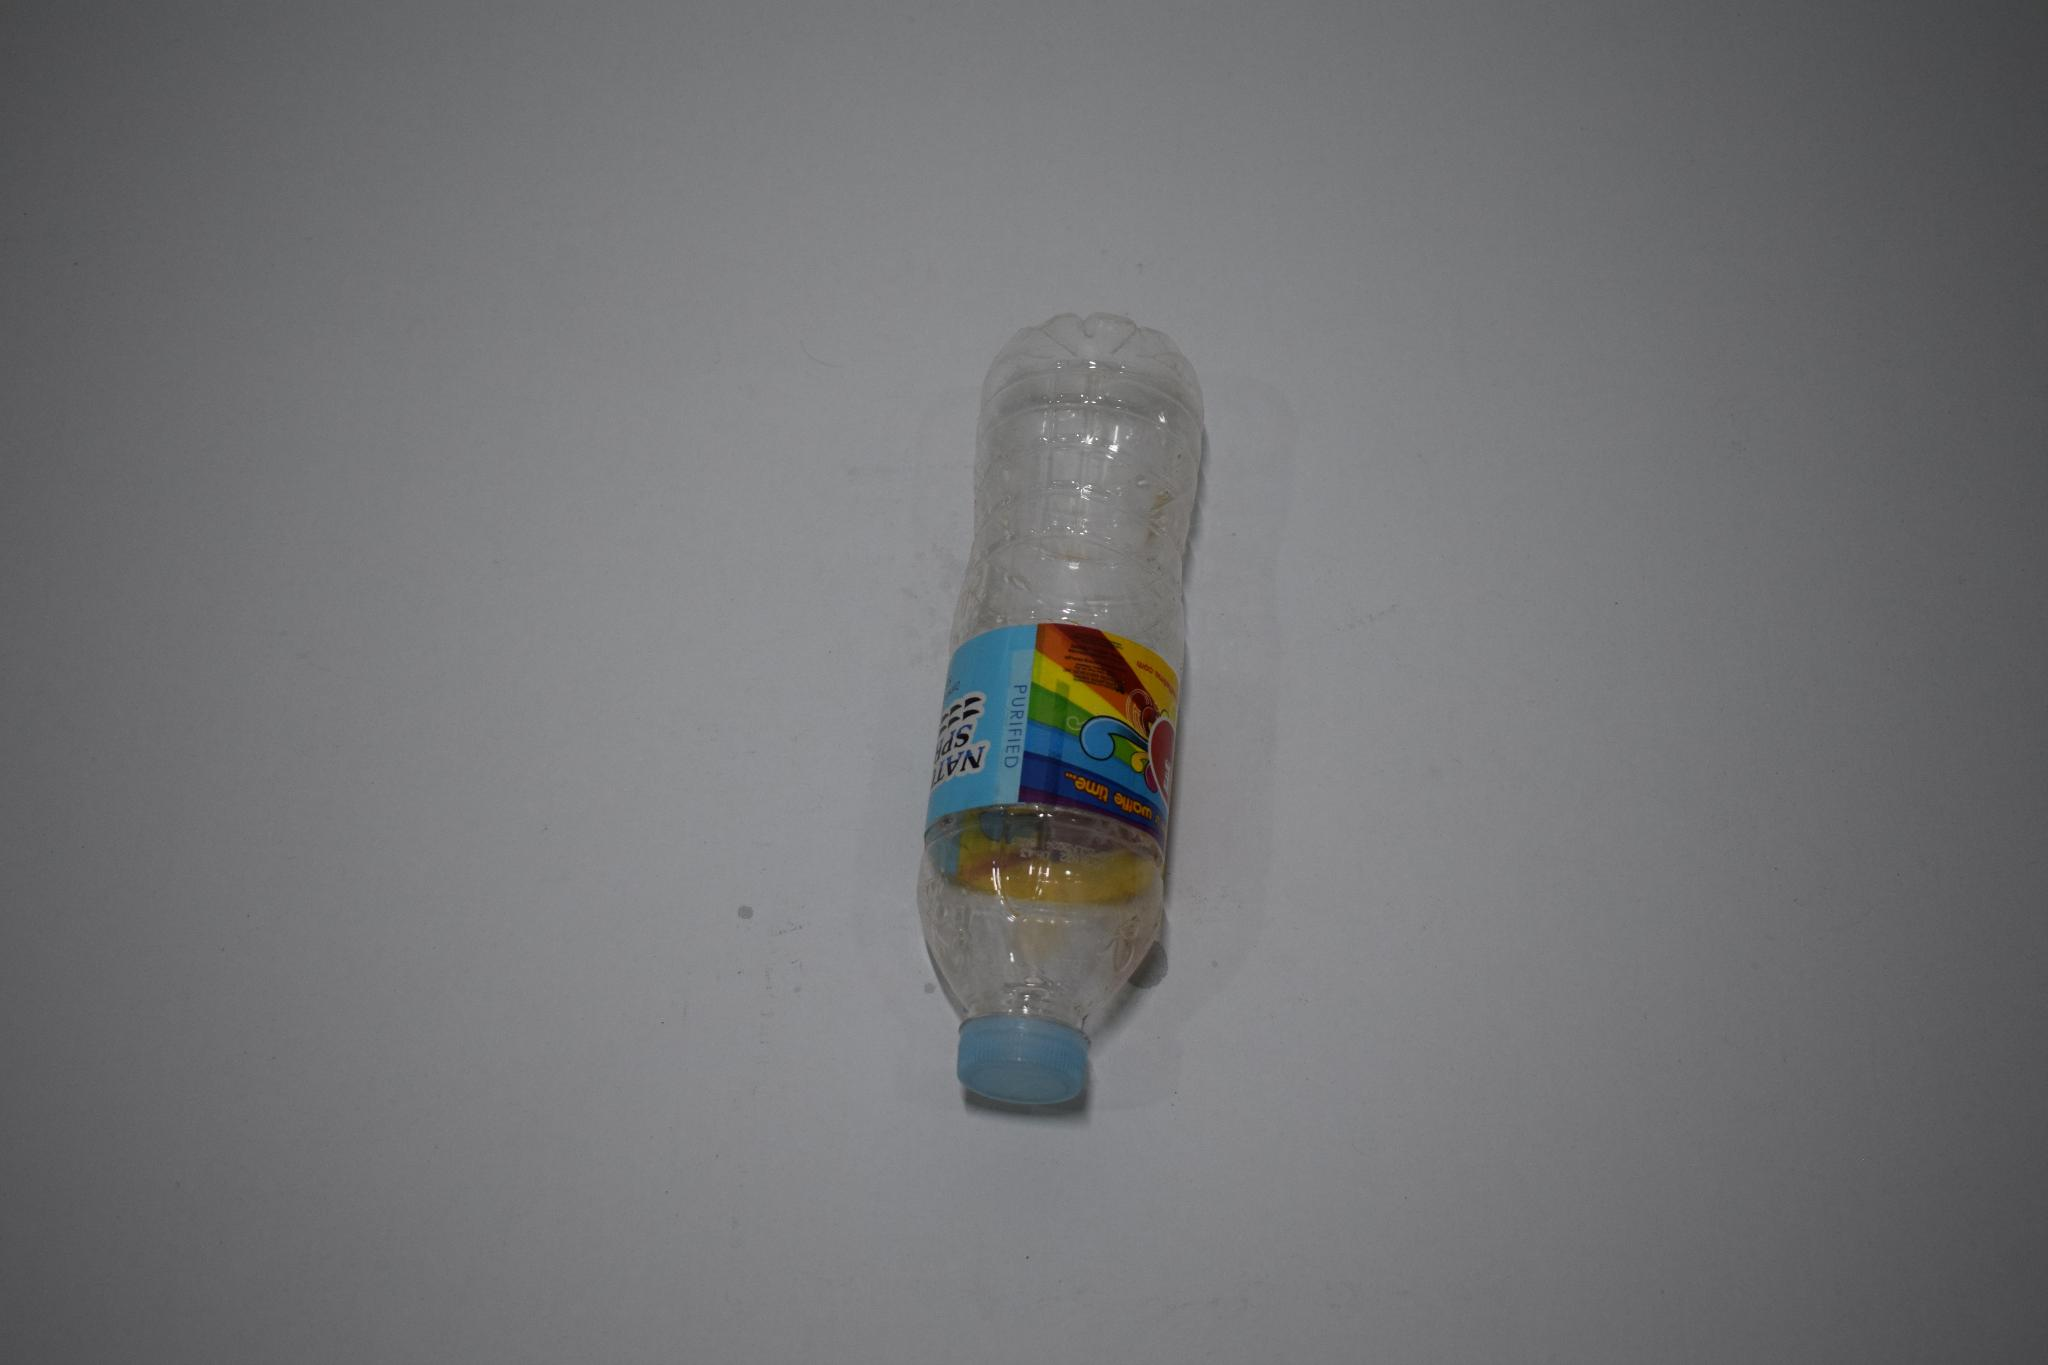bottle: (923, 300, 1206, 1124)
